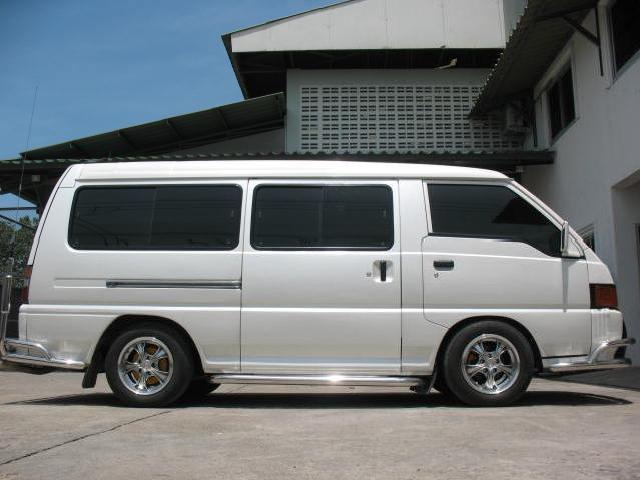van: (14, 158, 626, 405)
